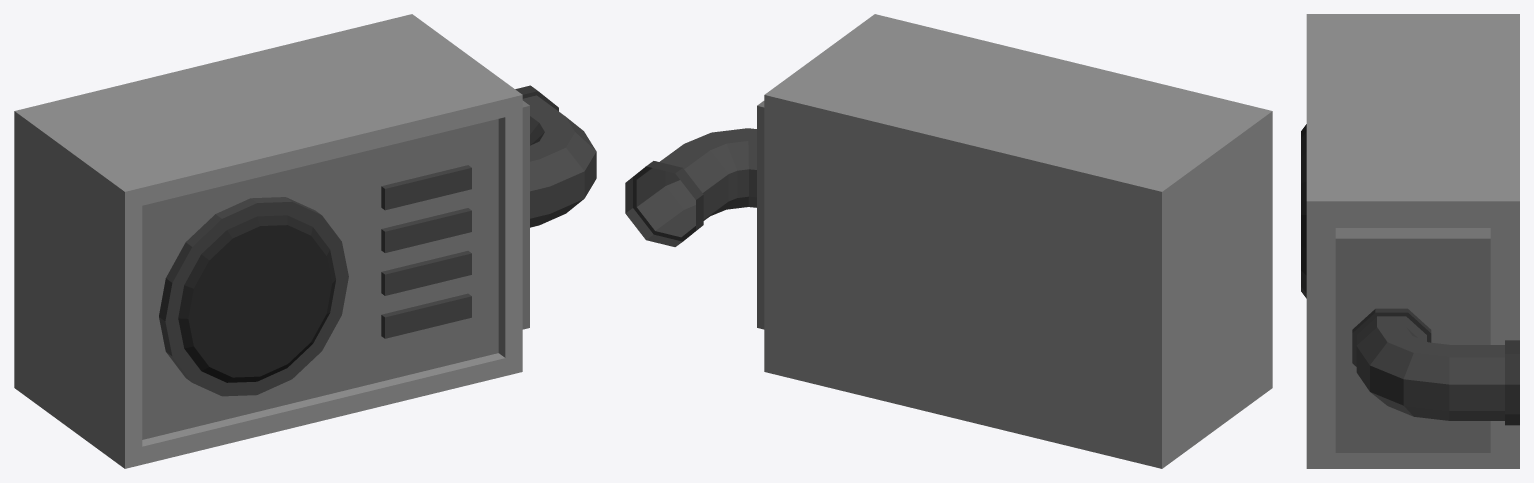
The model's file is SM_BuildingsDecor_06.fbx.
3 renders of one model, left to right at view 1: azimuth 30°, elevation 25°; view 2: azimuth 150°, elevation 25°; view 3: azimuth 270°, elevation 25°, orthographic. The views are drawn at different scales.
Visible parts, largest first — view 1: SM_BuildingsDecor_06; view 2: SM_BuildingsDecor_06; view 3: SM_BuildingsDecor_06.
Boxes of the visible parts, x1,y1,x2,y2 form: SM_BuildingsDecor_06: (14, 14, 596, 468); SM_BuildingsDecor_06: (625, 14, 1272, 468); SM_BuildingsDecor_06: (1301, 14, 1519, 468).
Size of the model in its own units: 0.9508 by 0.4689 by 0.3476.
